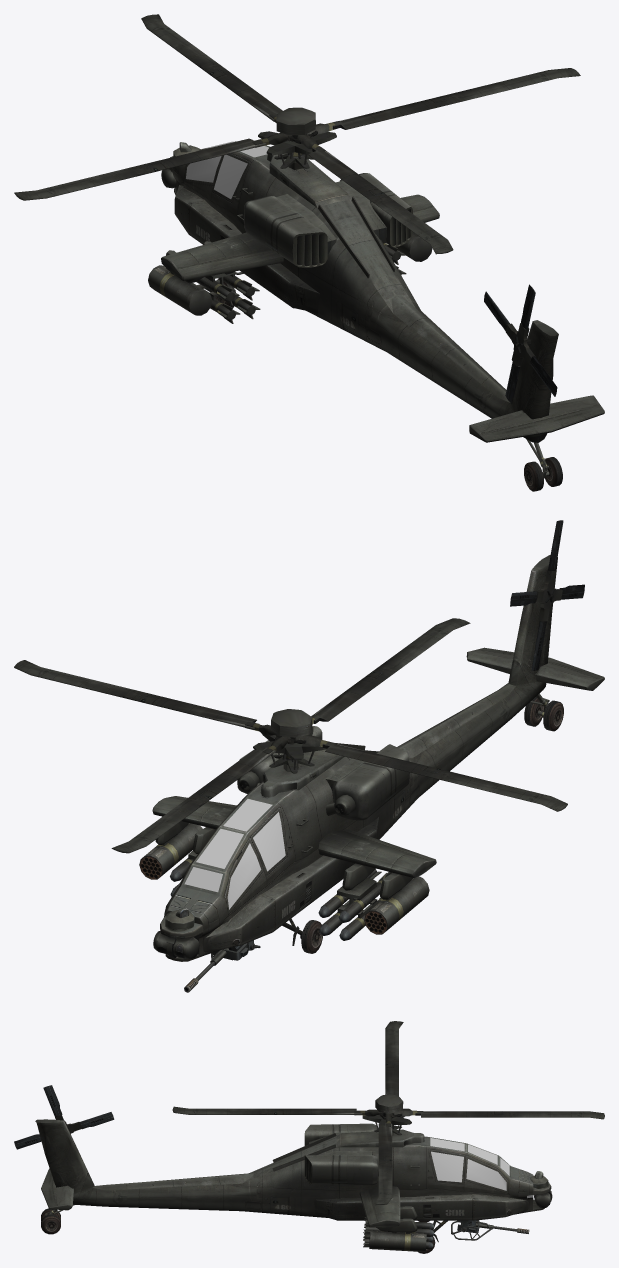
File: AH64_APACHE.FBX
3 renders of one model, top to bottom at view 1: azimuth 30°, elevation 25°; view 2: azimuth 150°, elevation 25°; view 3: azimuth 270°, elevation 25°, orthographic. The views are drawn at different scales.
Parts seen in each view (by area): view 1: AH64_APACHE, glass; view 2: AH64_APACHE, glass; view 3: AH64_APACHE, glass.
Boxes of the visible parts, <box> form: AH64_APACHE: <box>14,14,604,491</box>; glass: <box>186,141,268,198</box>; AH64_APACHE: <box>14,520,604,992</box>; glass: <box>184,799,285,909</box>; AH64_APACHE: <box>14,1021,604,1253</box>; glass: <box>430,1138,533,1198</box>.
Size of the model in its own units: 1140 by 430 by 1558.
